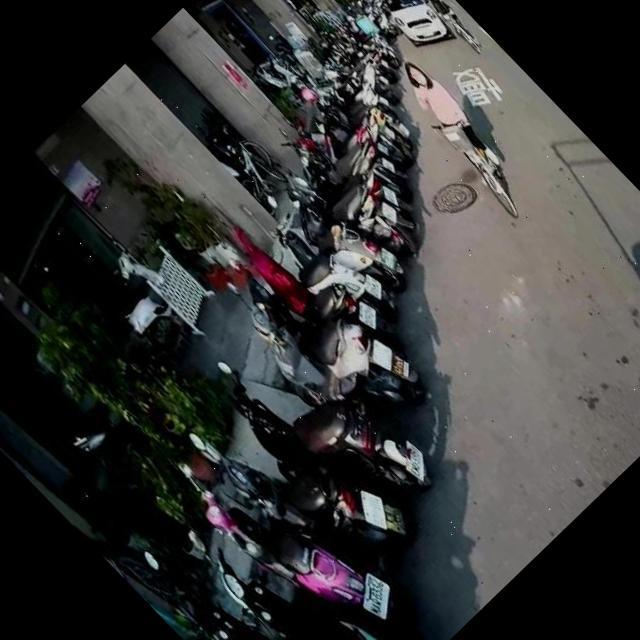person: (378, 49, 519, 193), (414, 0, 484, 49)
